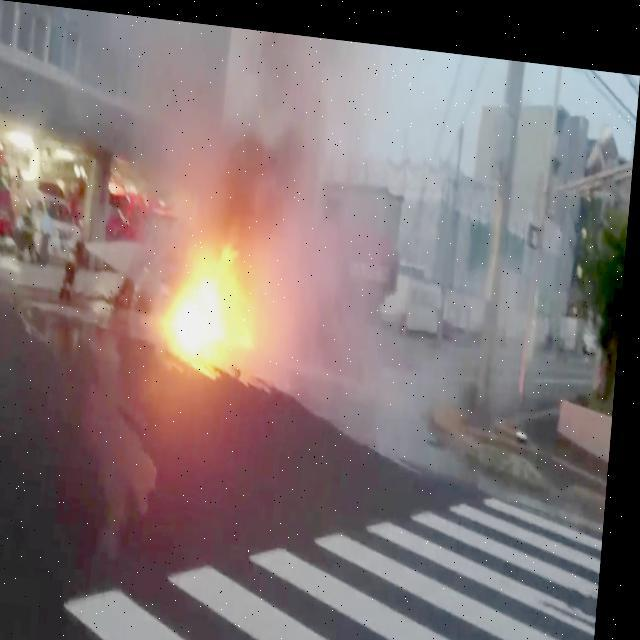Fire: (170, 235, 264, 332)
